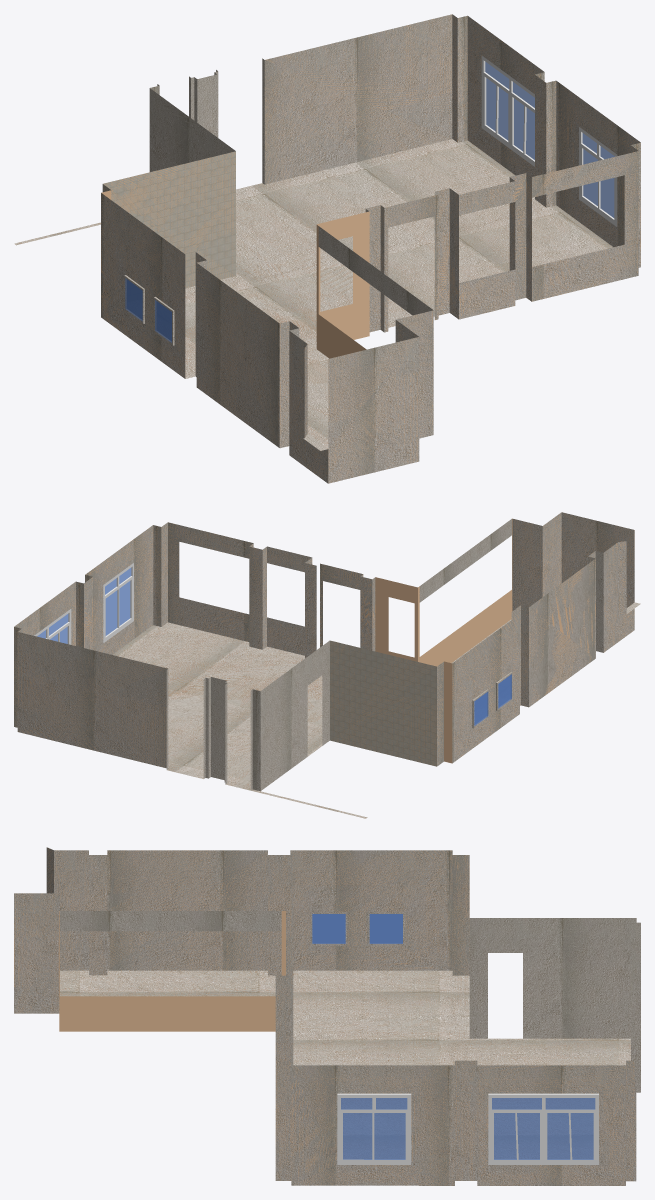
The model's file is COM030.obj.
The picture shows the model from 3 angles, top to bottom: view 1: azimuth 30°, elevation 25°; view 2: azimuth 150°, elevation 25°; view 3: azimuth 270°, elevation 25°; orthographic projection. The views are drawn at different scales.
Parts seen in each view (by area): view 1: Mesh21 COM030 Model, Mesh7 Group3 COM030 Model, Mesh15 Group4 COM030 Model, Mesh1 Group1 COM030 Model, Mesh4 Group2 COM030 Model; view 2: Mesh21 COM030 Model, Mesh15 Group4 COM030 Model, Mesh7 Group3 COM030 Model, Mesh1 Group1 COM030 Model, Mesh4 Group2 COM030 Model; view 3: Mesh21 COM030 Model, Mesh7 Group3 COM030 Model, Mesh15 Group4 COM030 Model, Mesh1 Group1 COM030 Model, Mesh4 Group2 COM030 Model.
Part boxes in pixels (x1,y1,x2,y2): Mesh21 COM030 Model: (14,14,640,483); Mesh7 Group3 COM030 Model: (481,55,534,166); Mesh15 Group4 COM030 Model: (579,127,617,226); Mesh1 Group1 COM030 Model: (154,297,174,345); Mesh4 Group2 COM030 Model: (124,275,144,323); Mesh21 COM030 Model: (14,512,640,818); Mesh15 Group4 COM030 Model: (103,563,133,642); Mesh7 Group3 COM030 Model: (34,609,71,644); Mesh1 Group1 COM030 Model: (496,671,512,710); Mesh4 Group2 COM030 Model: (472,689,488,728); Mesh21 COM030 Model: (14,847,640,1185); Mesh7 Group3 COM030 Model: (488,1093,598,1164); Mesh15 Group4 COM030 Model: (337,1093,411,1164); Mesh1 Group1 COM030 Model: (310,912,347,945); Mesh4 Group2 COM030 Model: (367,912,404,945).
Size of the model in its own units: 14.07 by 3.6 by 16.98.
Materials: 6 (3 with a texture image).
